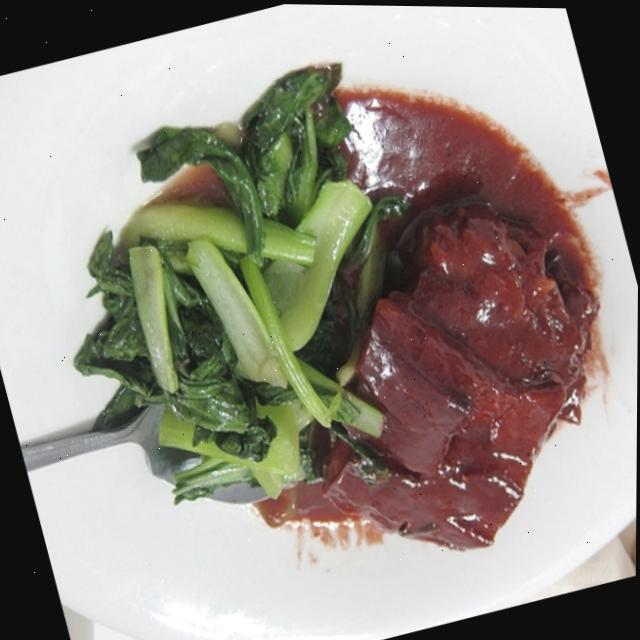牛肉菜式: (173, 107, 639, 605)
